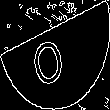O_N: (35, 24, 75, 86)
